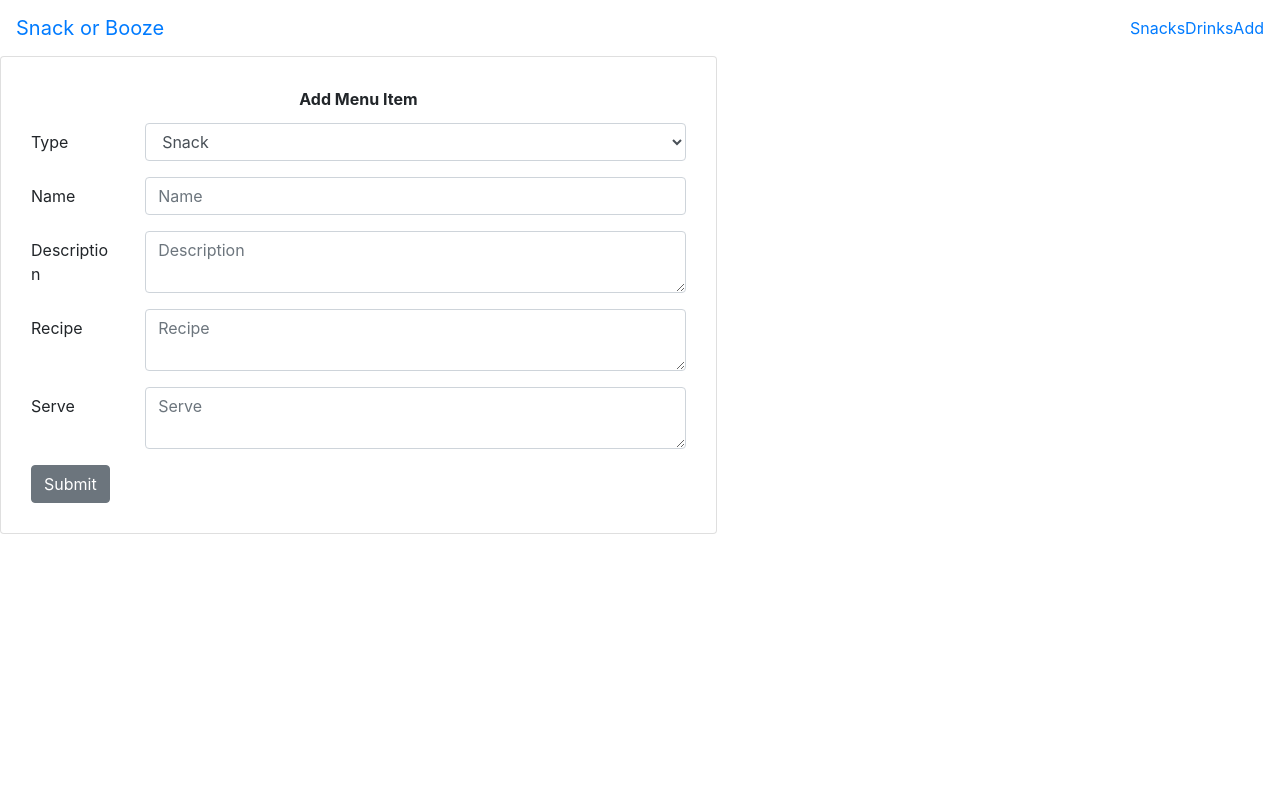
Test: test adding new menu items › should fail because of conflicting item name
This screenshot has width=1280, height=800.
Type "test snack 2" into the text box labelled "Description" at [415, 262], box [145, 231, 686, 293]
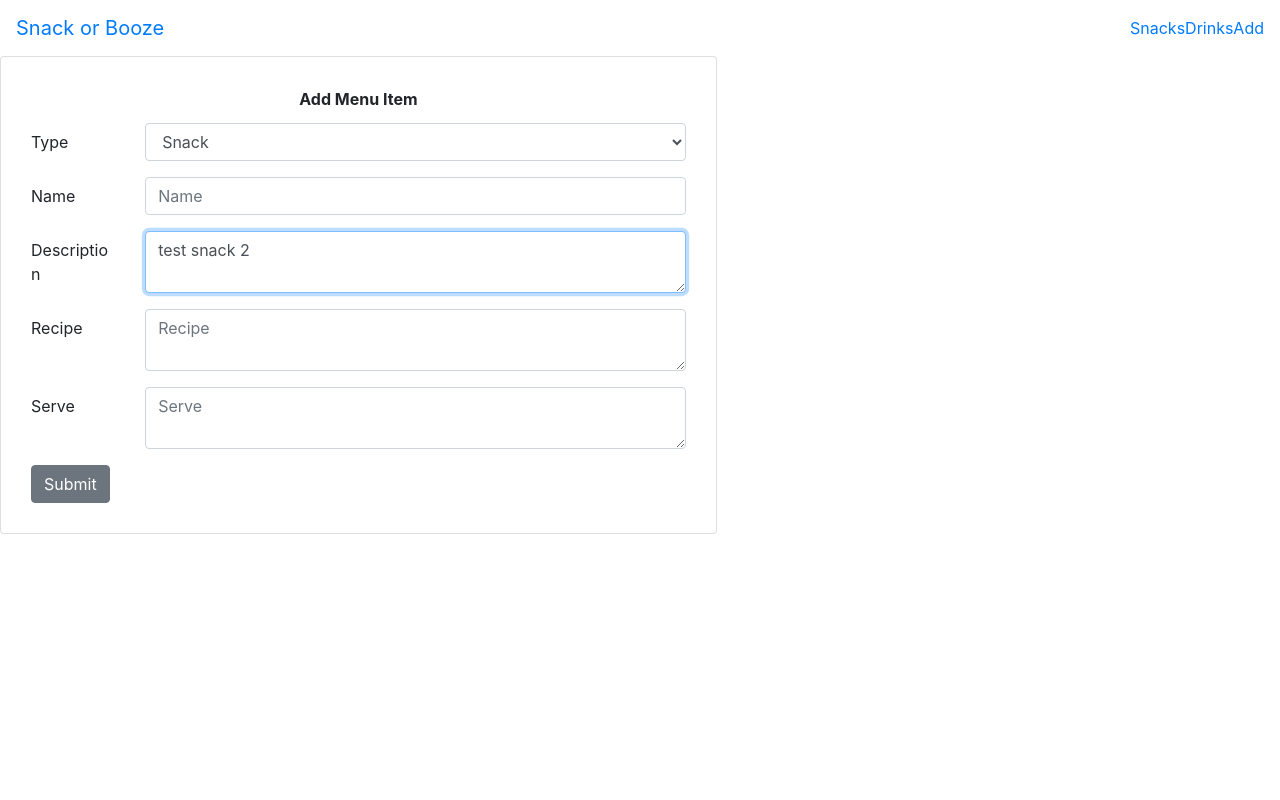
Type "test snack 2" into the text box labelled "Recipe" at [415, 340], box [145, 309, 686, 371]
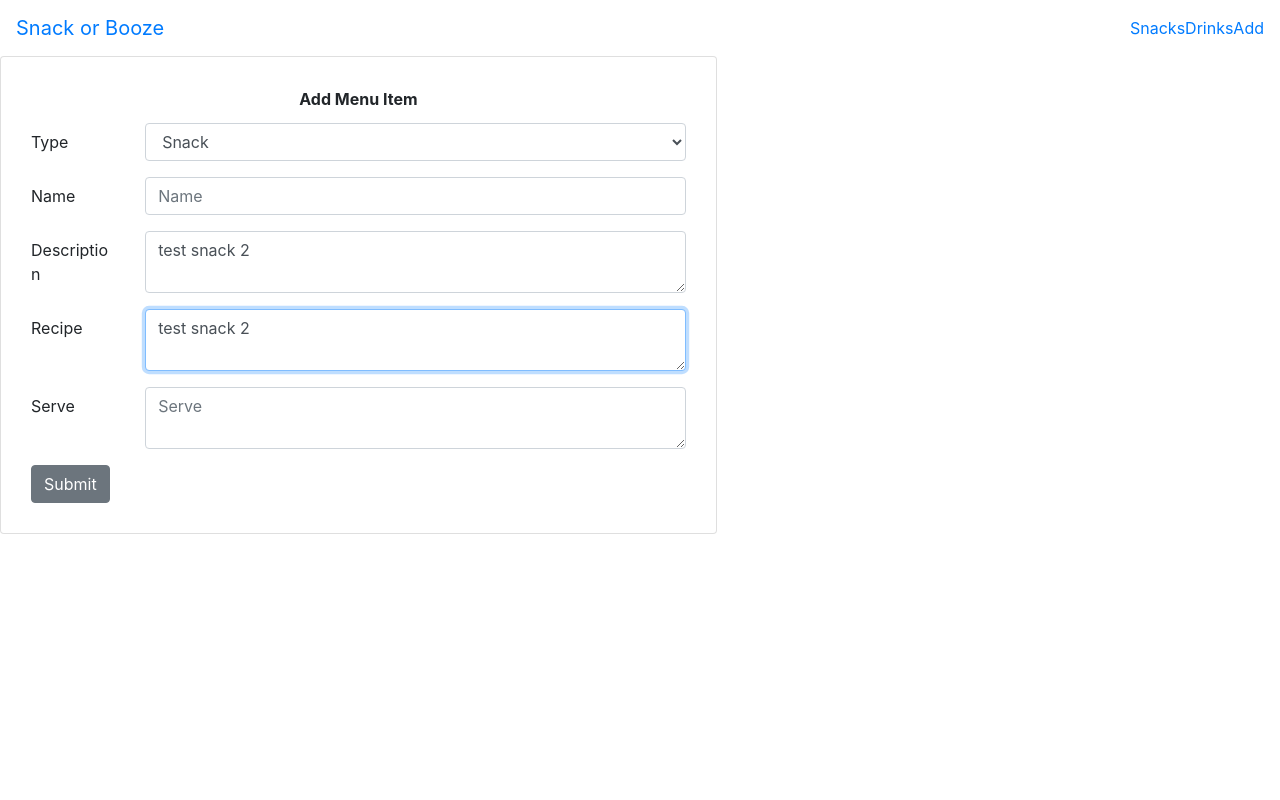
Type "test snack 2" into the text box labelled "Serve" at [415, 418], box [145, 387, 686, 449]
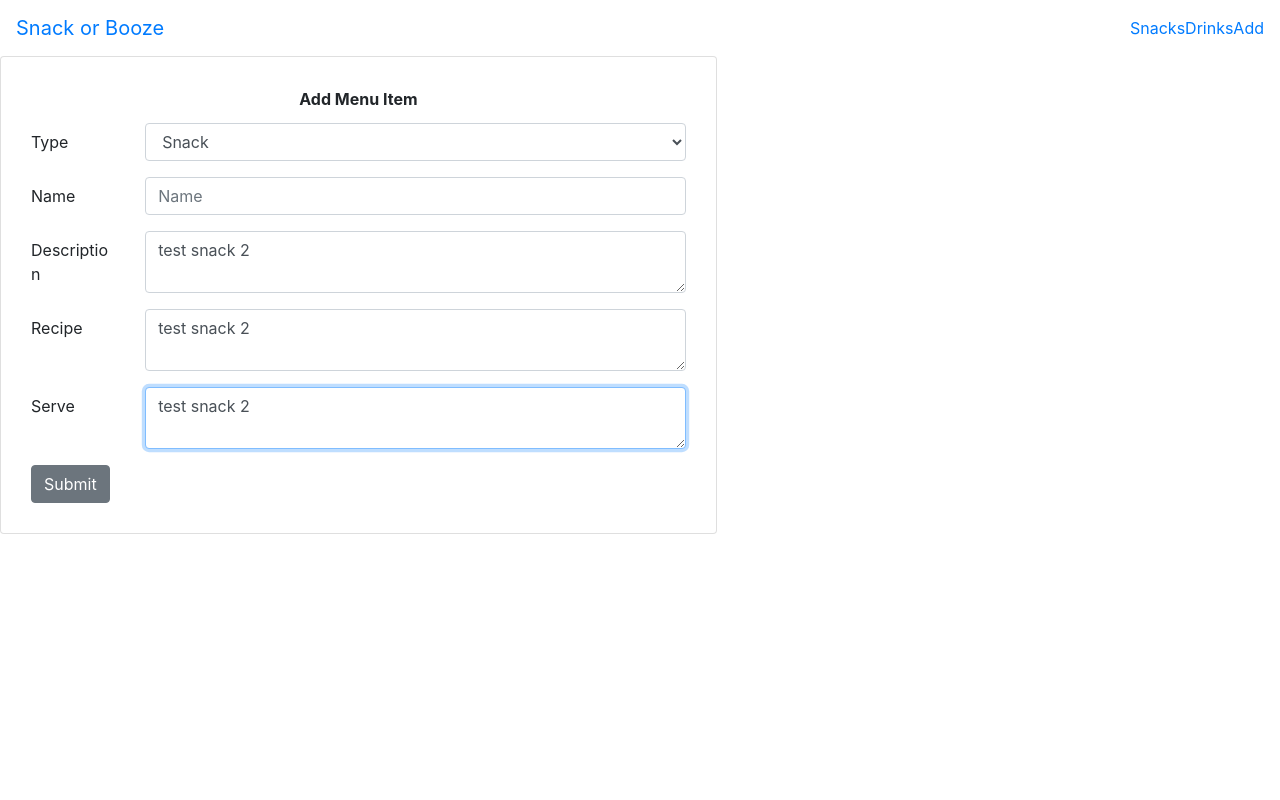
Type "test snack 2" into the field labelled "Name" at [415, 196], box [145, 177, 686, 215]
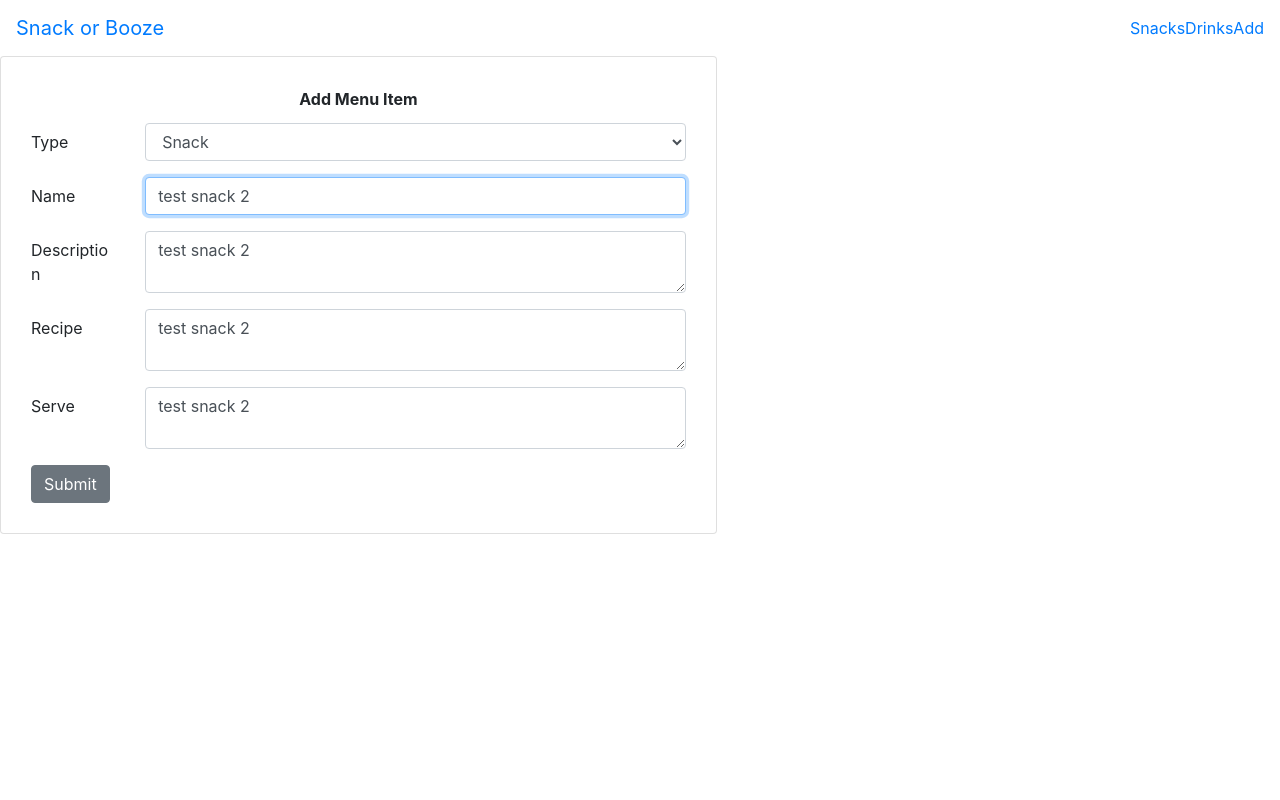
Click the button "Submit" at [70, 484], box [31, 465, 110, 503]
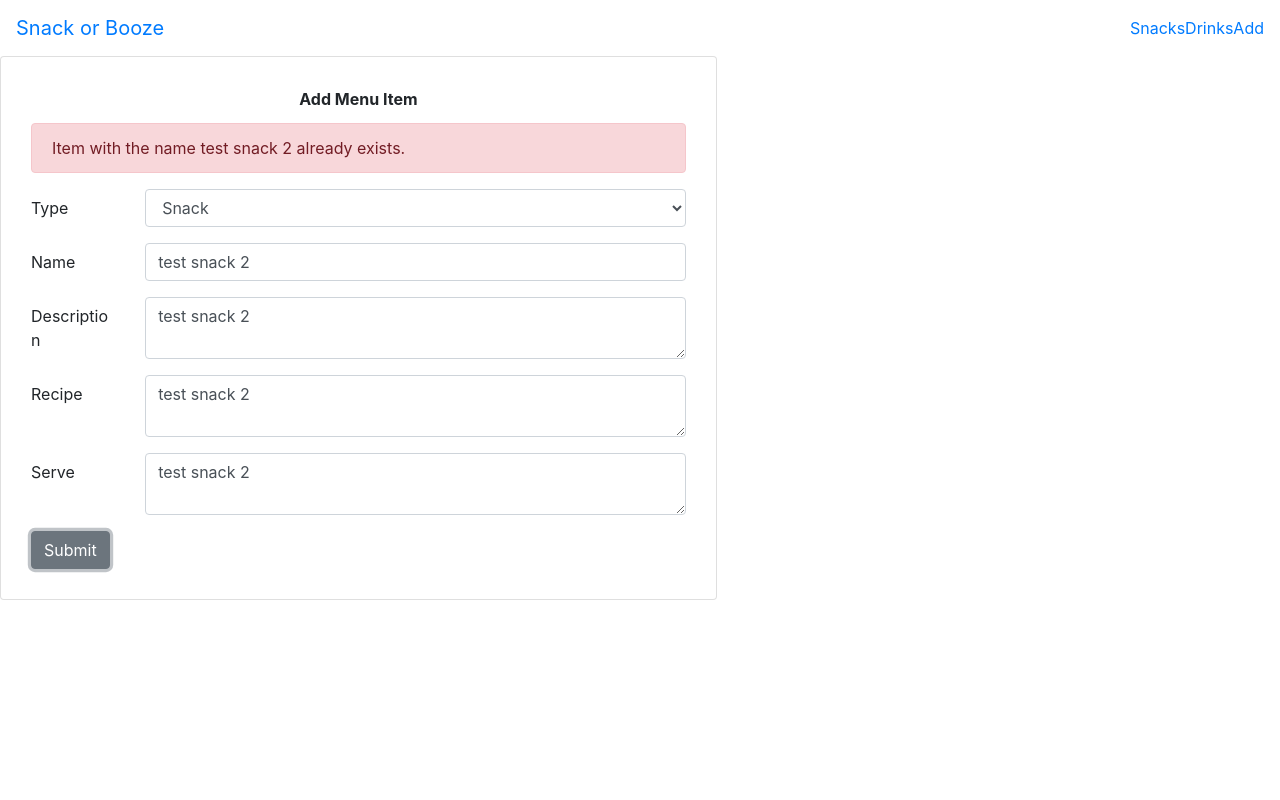
Expected: the text "Add Menu Item" is shown, [299, 89, 418, 109]
Expected: the text "Item with the name test snack 2 already exists." is shown, [31, 123, 686, 173]
